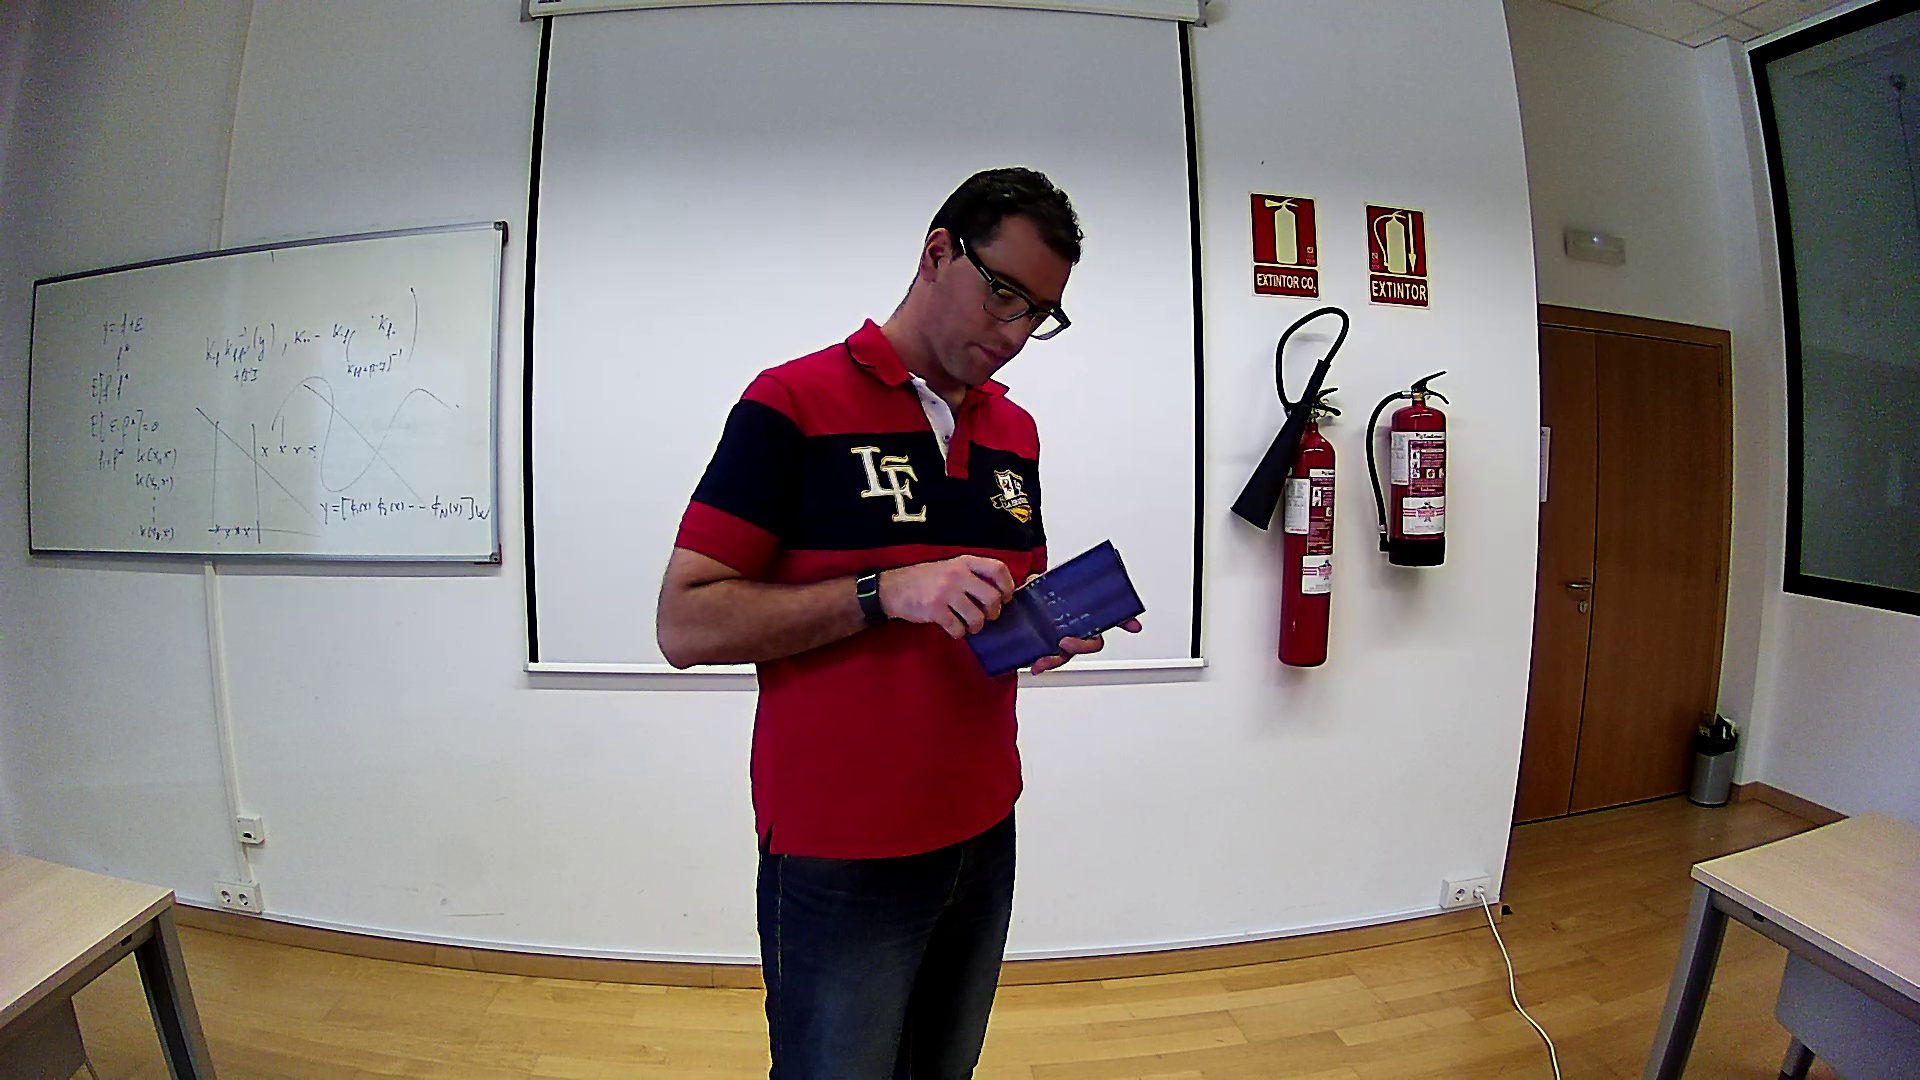monedero: (955, 537, 1147, 679)
